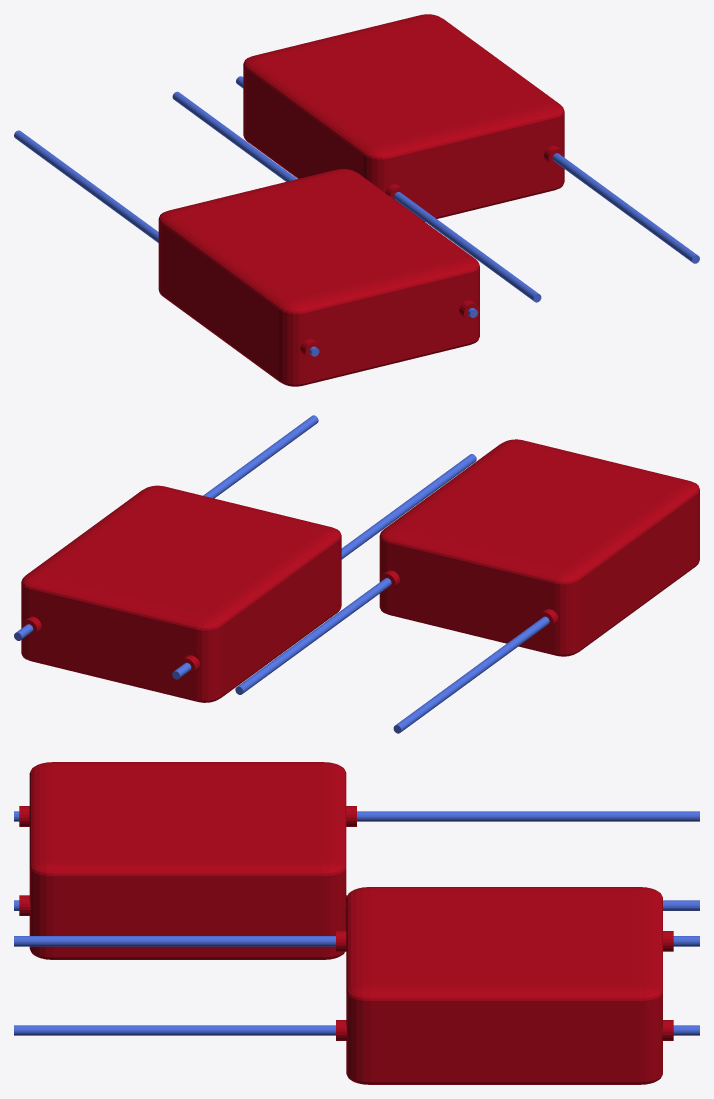
The model's file is Movable wall.fbx.
The picture shows the model from 3 angles, top to bottom: view 1: azimuth 30°, elevation 25°; view 2: azimuth 150°, elevation 25°; view 3: azimuth 270°, elevation 25°; orthographic projection. The views are drawn at different scales.
Parts seen in each view (by area): view 1: Wall2, Wall1, Poles; view 2: Wall1, Wall2, Poles; view 3: Wall1, Wall2, Poles.
Part boxes in pixels (x1,y1,x2,y2): Wall2: (158, 169, 479, 386); Wall1: (243, 14, 564, 221); Poles: (14, 76, 699, 356); Wall1: (21, 485, 341, 702); Wall2: (379, 439, 699, 656); Poles: (14, 415, 549, 733); Wall1: (336, 887, 673, 1084); Wall2: (19, 762, 356, 959); Poles: (14, 811, 699, 1035).
Size of the model in its own units: 5.3 by 1 by 6.5.
